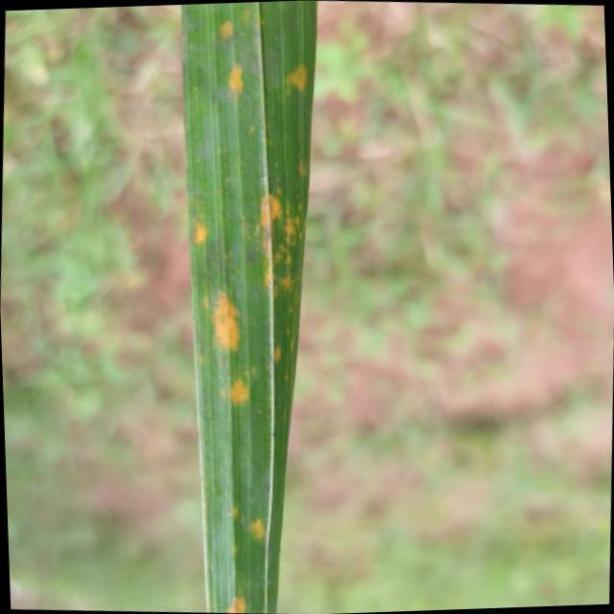Kalium: (176, 0, 324, 614)
